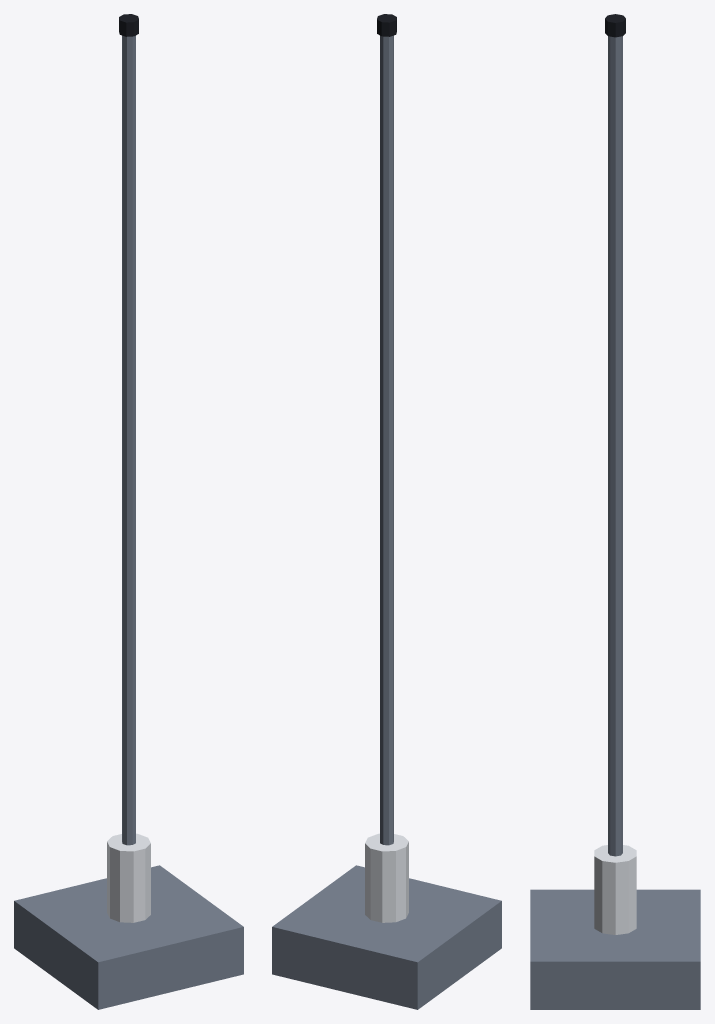
Rendered from Antenna_Std.glb.
3 views of the same model, side by side, from view 1: azimuth 30°, elevation 25°; view 2: azimuth 150°, elevation 25°; view 3: azimuth 270°, elevation 25° (orthographic).
Visible parts, largest first — view 1: Antenna_Std; view 2: Antenna_Std; view 3: Antenna_Std.
Boxes of the visible parts, <box> form: Antenna_Std: <box>14,14,243,1009</box>; Antenna_Std: <box>272,14,501,1009</box>; Antenna_Std: <box>530,14,700,1009</box>.
Size of the model in its own units: 0.16 by 0.99 by 0.16.
